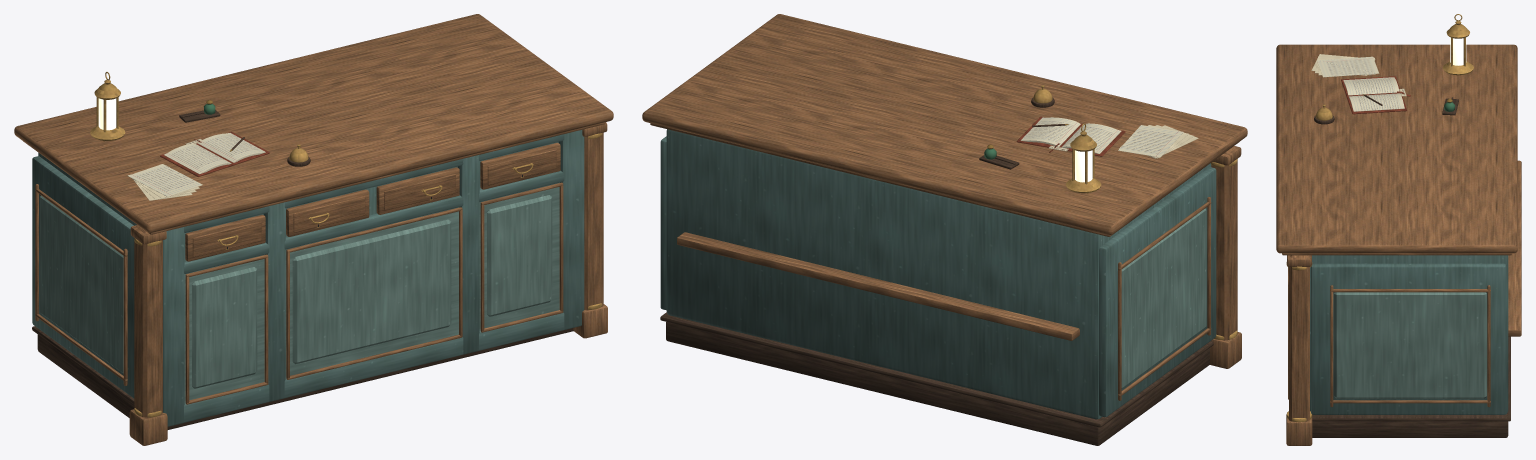
The model's file is hall_reception_desk.gltf.
3 views of the same model, side by side, from view 1: azimuth 30°, elevation 25°; view 2: azimuth 150°, elevation 25°; view 3: azimuth 270°, elevation 25° (orthographic). The views are drawn at different scales.
Visible parts, largest first — view 1: RECEPTION_DESK; view 2: RECEPTION_DESK; view 3: RECEPTION_DESK.
Boxes of the visible parts, box(x1,y1,x2,y2) form: RECEPTION_DESK: box(14, 14, 613, 445); RECEPTION_DESK: box(642, 14, 1247, 445); RECEPTION_DESK: box(1276, 14, 1521, 445).
Bounding box in the file's own units: 2.5 × 1.48 × 1.28.
Materials: 12 (11 with a texture image).
